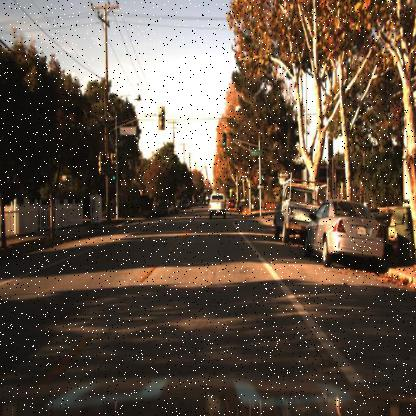car: (300, 192, 388, 280), (301, 197, 385, 267), (270, 171, 323, 244), (265, 164, 305, 248), (208, 188, 228, 226), (200, 195, 212, 207)
trafficLight: (259, 164, 266, 188)
trafficLight-Green: (219, 131, 226, 152), (220, 132, 228, 150), (109, 170, 118, 184), (257, 169, 265, 184)
